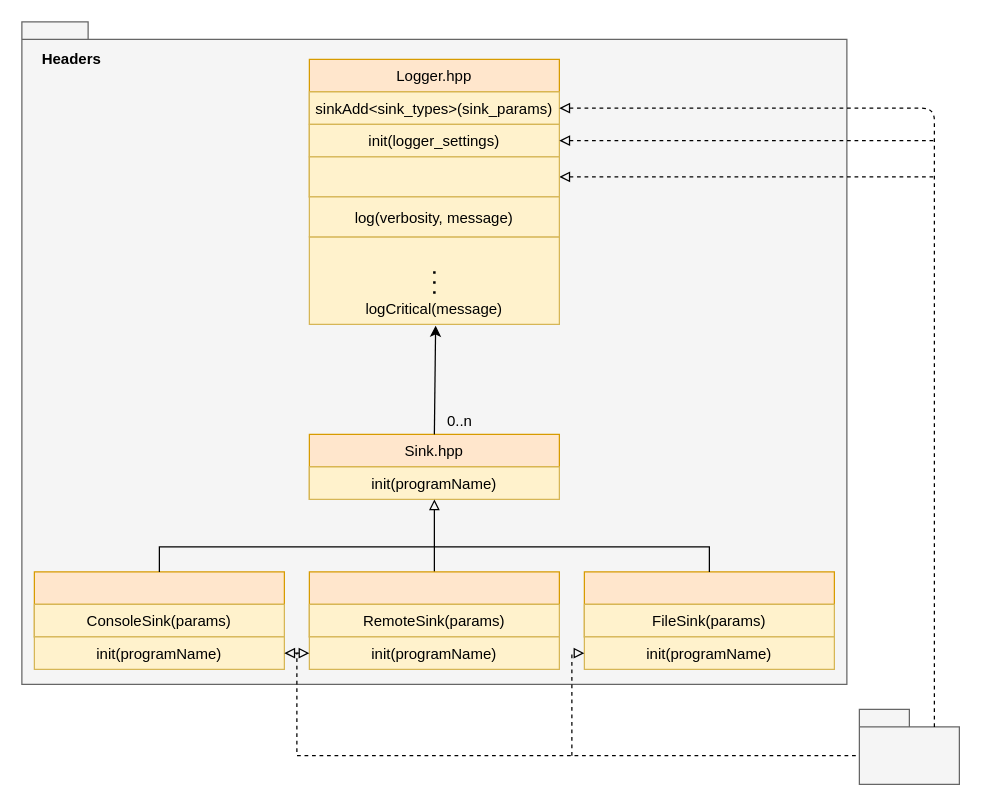
Some shapes in this 981 by 806 pixel diagram are drawn without their labels. Each missing label, with the box of its shape:
.so: (858, 708, 959, 784)
ConsoleSink.hpp: (33, 571, 284, 637)
destroy(): (308, 156, 559, 197)
FileSink.hpp: (583, 571, 834, 637)
logDebug(message): (308, 236, 559, 324)
RemoteSink.hpp: (308, 571, 559, 637)
